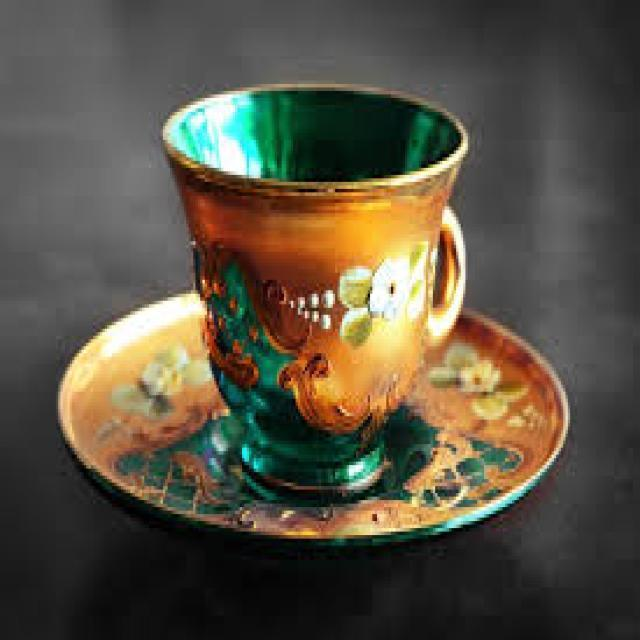taza: (147, 71, 476, 500)
